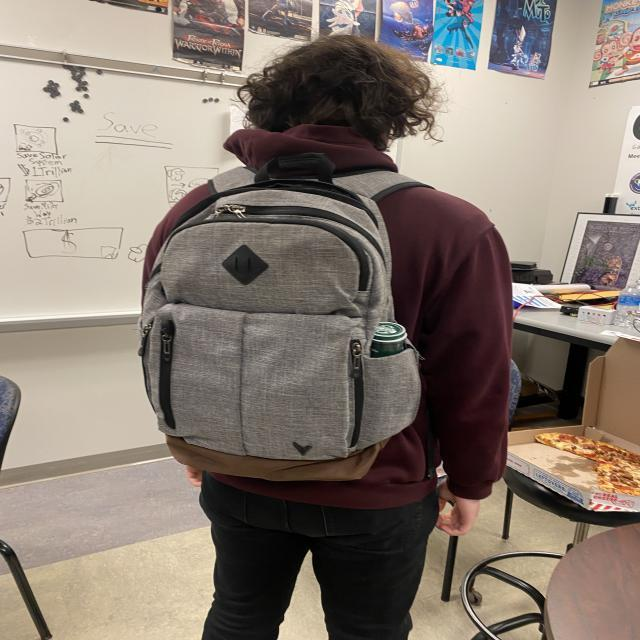Backpacks: (141, 175, 421, 484)
